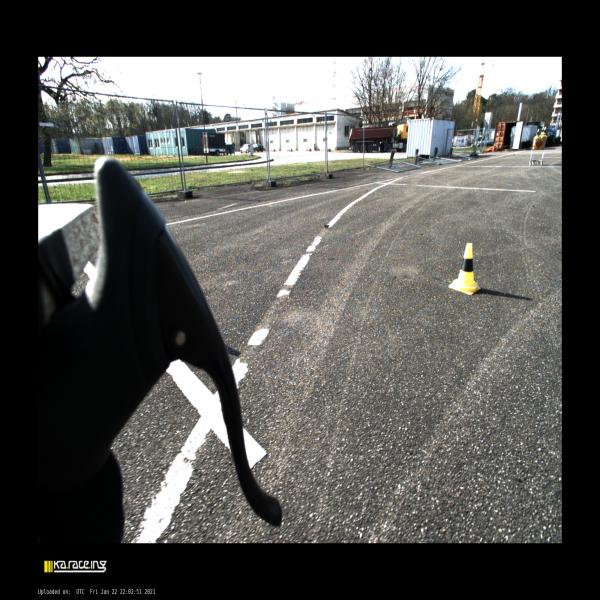yellow_cone: (449, 244, 480, 294), (534, 128, 540, 138), (542, 127, 547, 136), (540, 126, 544, 136)
